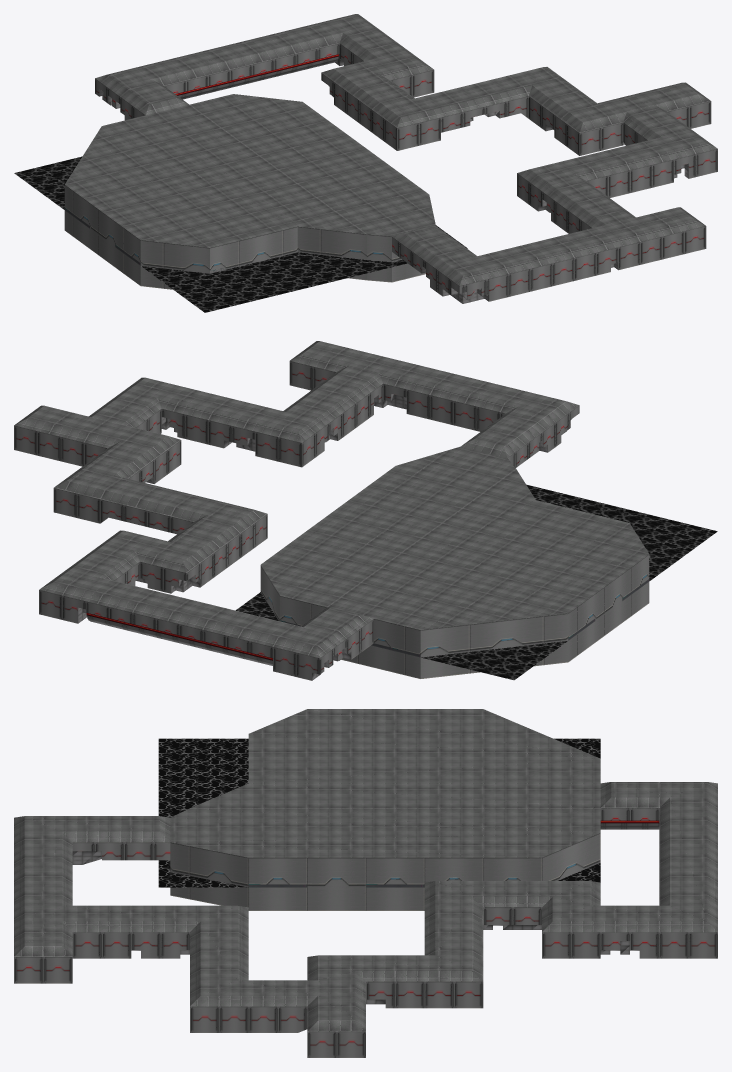
3 renders of one model, top to bottom at view 1: azimuth 30°, elevation 25°; view 2: azimuth 150°, elevation 25°; view 3: azimuth 270°, elevation 25°, orthographic. The views are drawn at different scales.
Parts seen in each view (by area): view 1: Wall_Main2, Wall_Main, Wall_Main4, Water.007, Block, HalfPipe_Road, HalfPipe; view 2: Wall_Main2, Wall_Main, Wall_Main4, Water.007, Block, HalfPipe_Road, HalfPipe; view 3: Wall_Main2, Wall_Main, Wall_Main4, Water.007, Block.
Part boxes in pixels (x1=…): Wall_Main2: x1=65, y1=14, x2=717, y2=285; Wall_Main: x1=95, y1=43, x2=717, y2=301; Wall_Main4: x1=64, y1=185, x2=425, y2=289; Water.007: x1=14, y1=156, x2=467, y2=312; Block: x1=99, y1=59, x2=688, y2=303; HalfPipe_Road: x1=178, y1=56, x2=338, y2=99; HalfPipe: x1=175, y1=54, x2=338, y2=95; Wall_Main2: x1=14, y1=341, x2=648, y2=658; Wall_Main: x1=14, y1=361, x2=579, y2=680; Wall_Main4: x1=260, y1=554, x2=649, y2=678; Water.007: x1=235, y1=484, x2=717, y2=680; Block: x1=78, y1=394, x2=571, y2=680; HalfPipe_Road: x1=86, y1=615, x2=272, y2=665; HalfPipe: x1=86, y1=613, x2=272, y2=660; Wall_Main2: x1=14, y1=709, x2=717, y2=1031; Wall_Main: x1=14, y1=808, x2=717, y2=1057; Wall_Main4: x1=170, y1=833, x2=600, y2=910; Water.007: x1=158, y1=738, x2=600, y2=887; Block: x1=72, y1=851, x2=639, y2=1004.
Size of the model in its own units: 90983 by 7803 by 83984.
15 materials, 15 textured.
